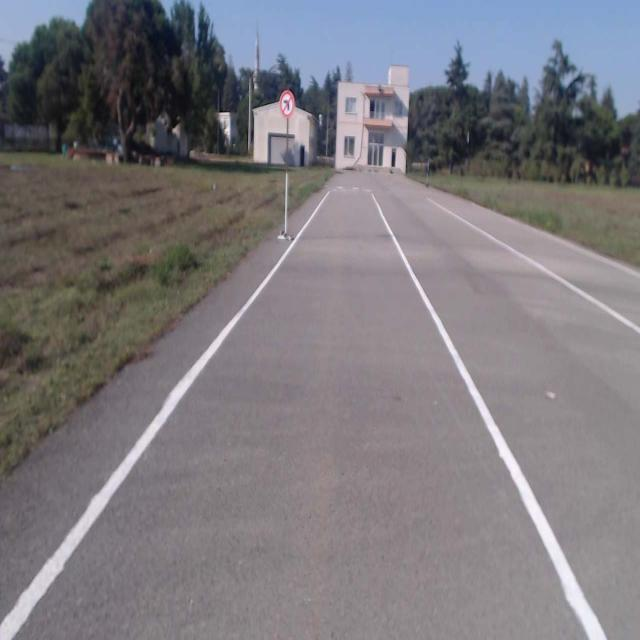soladonulmez: (280, 90, 294, 116)
